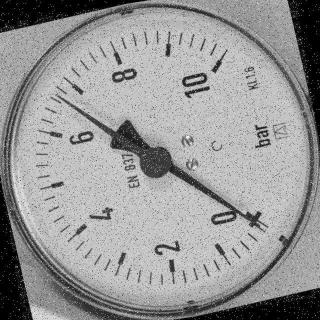gauge: (0, 0, 320, 320), (135, 142, 175, 182), (195, 55, 233, 89), (238, 202, 272, 234), (245, 212, 271, 238), (50, 88, 66, 103)
